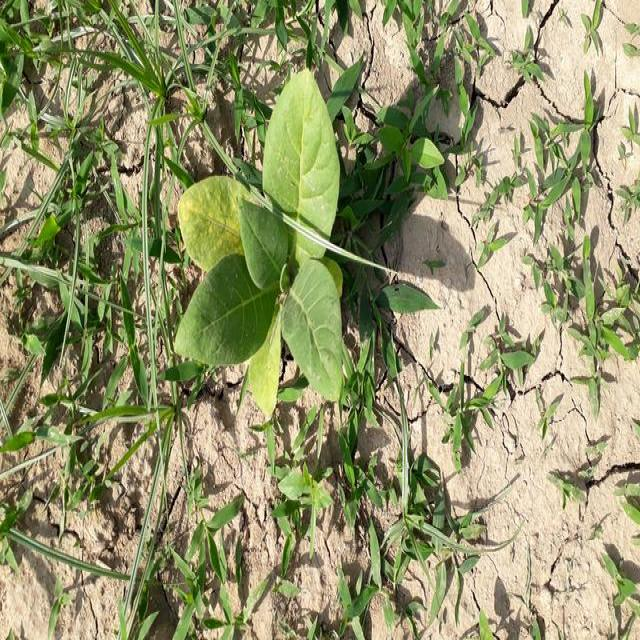crop: (174, 70, 359, 404)
